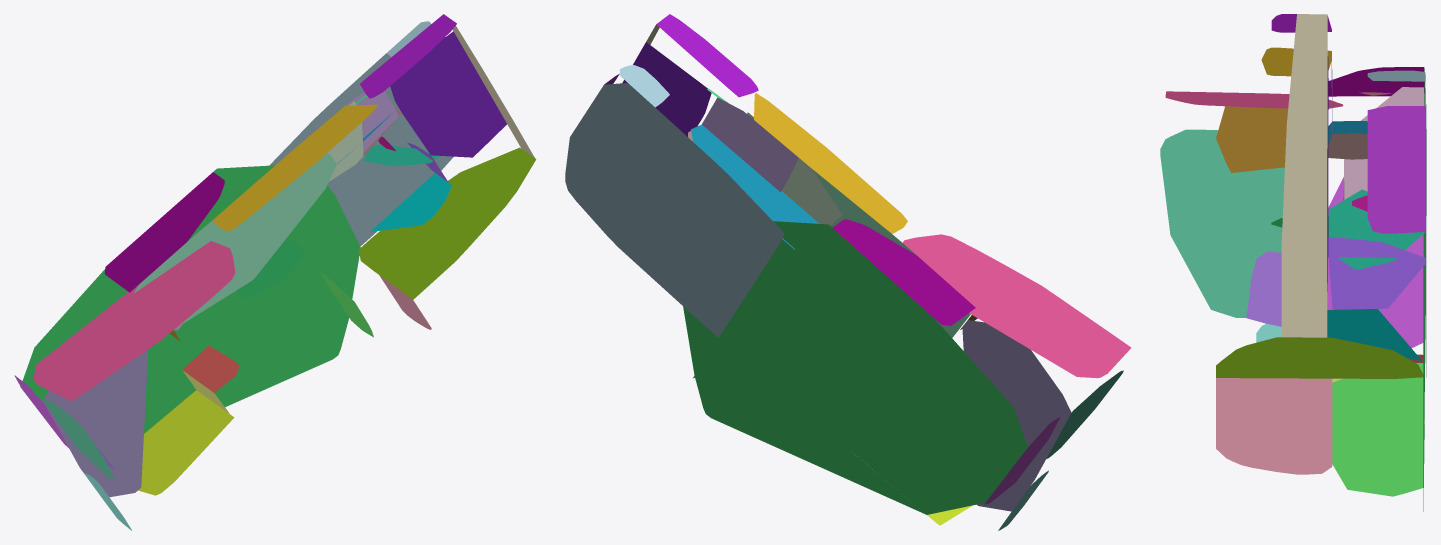
Rendered from planarrecon_scene0131.glb.
3 renders of one model, left to right at view 1: azimuth 30°, elevation 25°; view 2: azimuth 150°, elevation 25°; view 3: azimuth 270°, elevation 25°, orthographic. The views are drawn at different scales.
Size of the model in its own units: 7.75 by 6.27 by 2.11.
